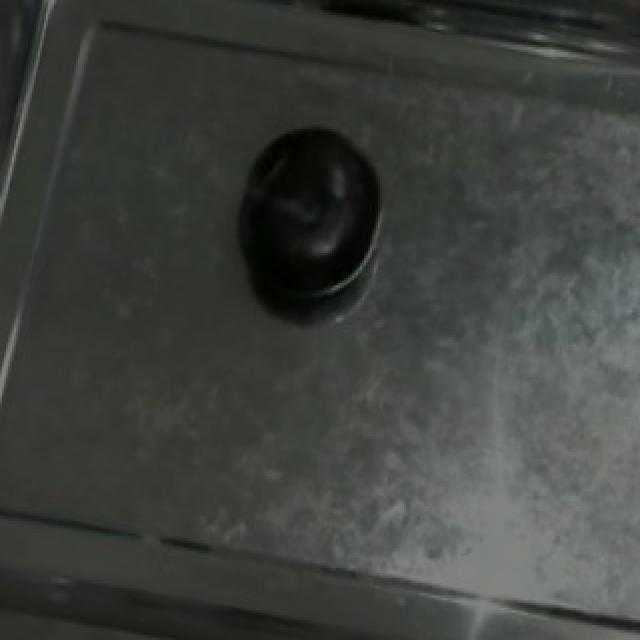Fruit: (236, 109, 388, 318)
